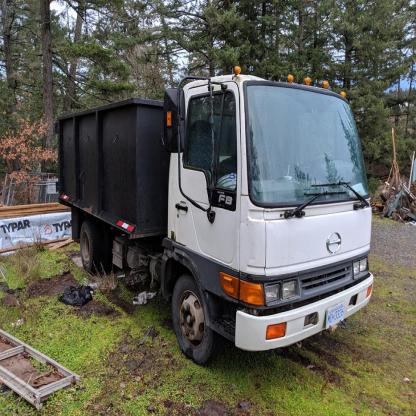dump_truck: (42, 58, 396, 364)
